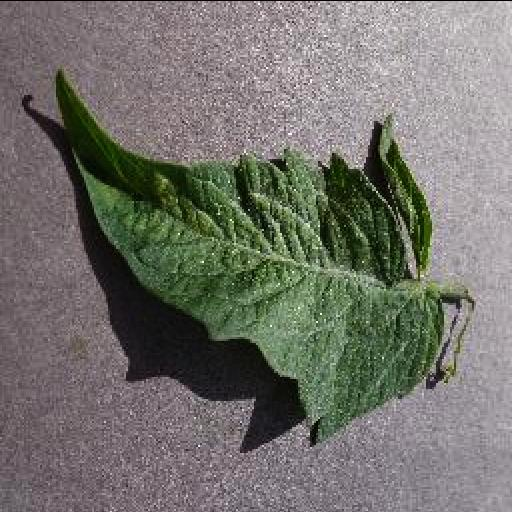disease_tomato: (52, 70, 446, 446)
